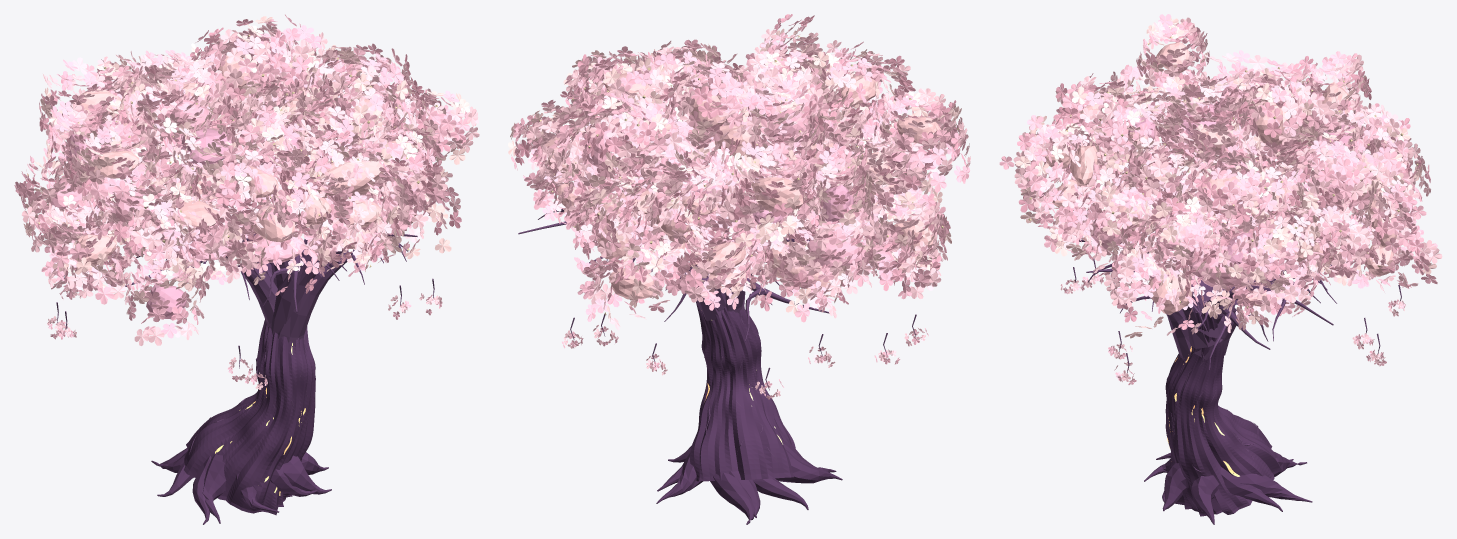
Rendered from r12_quality.glb.
3 renders of one model, left to right at view 1: azimuth 30°, elevation 25°; view 2: azimuth 150°, elevation 25°; view 3: azimuth 270°, elevation 25°, orthographic. The views are drawn at different scales.
Parts seen in each view (by area): view 1: Sakura_petal_pink, Sakura_petal_blush, Trunk_bark_plumblack, Sakura_petal_warm_rose, Sakura_petal_cream, Canopy_peach, Branches_plum, Canopy_rose, Canopy_depth_rose; view 2: Sakura_petal_pink, Sakura_petal_blush, Sakura_petal_warm_rose, Trunk_bark_plumblack, Sakura_petal_cream, Canopy_peach, Canopy_rose, Branches_plum, Canopy_depth_rose; view 3: Sakura_petal_pink, Sakura_petal_blush, Sakura_petal_warm_rose, Trunk_bark_plumblack, Sakura_petal_cream, Canopy_peach, Branches_plum, Canopy_rose, Canopy_depth_rose.
Part boxes in pixels (x1,y1,x2,y2): Sakura_petal_pink: (14,14,469,385); Sakura_petal_blush: (18,23,479,389); Trunk_bark_plumblack: (151,258,346,524); Sakura_petal_warm_rose: (25,19,466,338); Sakura_petal_cream: (23,16,469,314); Canopy_peach: (61,55,416,282); Branches_plum: (56,233,434,454); Canopy_rose: (48,52,448,262); Canopy_depth_rose: (66,87,300,319); Sakura_petal_pink: (511,19,970,399); Sakura_petal_blush: (520,24,970,397); Sakura_petal_warm_rose: (513,14,966,311); Trunk_bark_plumblack: (656,301,842,524); Sakura_petal_cream: (508,27,961,321); Canopy_peach: (544,63,941,299); Canopy_rose: (584,109,935,267); Branches_plum: (518,209,916,465); Canopy_depth_rose: (578,72,905,236); Sakura_petal_pink: (999,25,1437,384); Sakura_petal_blush: (1013,17,1442,381); Sakura_petal_warm_rose: (1017,14,1430,329); Trunk_bark_plumblack: (1144,308,1312,524); Sakura_petal_cream: (1015,17,1436,338); Canopy_peach: (1043,42,1396,315); Branches_plum: (1073,239,1401,472); Canopy_rose: (1090,86,1346,286); Canopy_depth_rose: (1119,103,1355,278).
Bounding box in the file's own units: 26.43 × 27.76 × 25.95.
